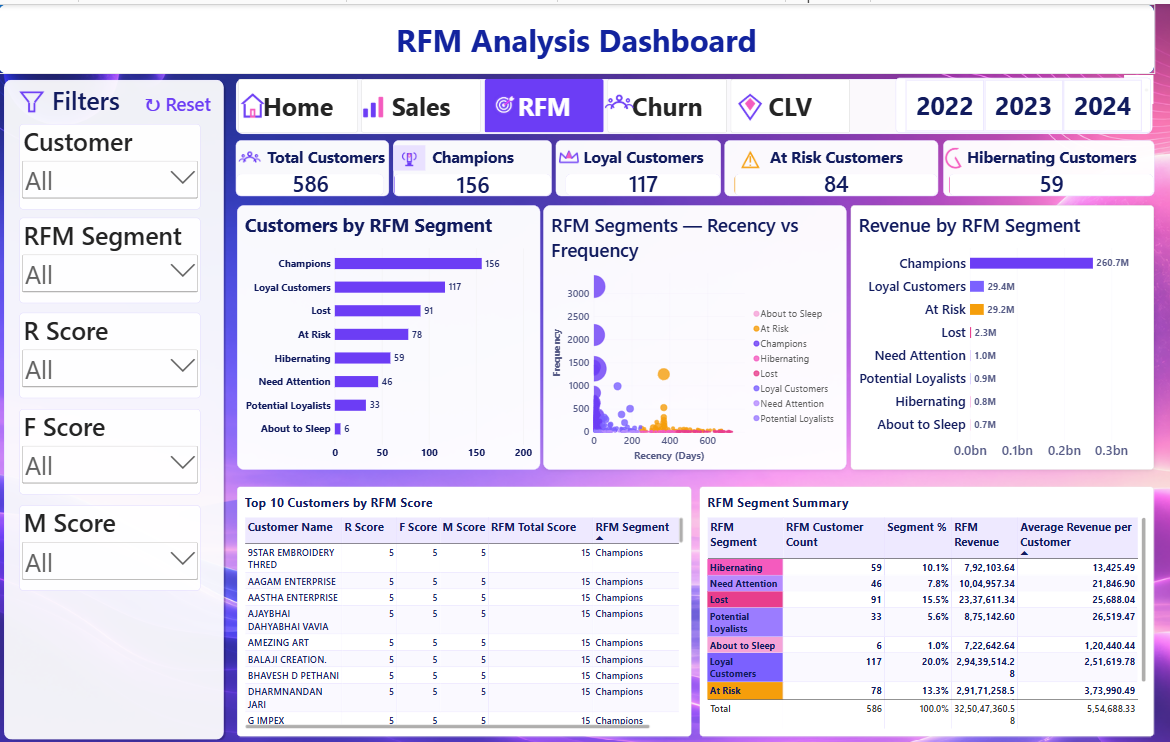

The page's visual inventory and layout, read from the dashboard file:
{"tool":"powerbi","page":{"name":"RFM ","canvas":[2560,1600],"ordinal":2},"visuals":[{"type":"shape","box":[18.8,155.5,485.3,1429],"z":0},{"type":"shape","box":[523.6,159.7,1966.5,118.2],"z":1000},{"type":"image","box":[251.3,20.5,115.4,79.5],"z":2000},{"type":"image","box":[779.5,35.9,80,80],"z":3000},{"type":"image","box":[42.9,168.9,84.5,79.6],"z":4000},{"type":"textbox","box":[128.7,168.9,219.8,91.2],"z":5000},{"type":"actionButton","box":[316.4,179.6,188.2,79.6],"z":6000},{"type":"slicer","fields":{"Values":["Customer_RFM.R Score"]},"box":[58.3,661.1,388,183],"z":7000},{"type":"slicer","fields":{"Values":["Customer_RFM.F Score"]},"box":[58.3,869.4,388,183],"z":8000},{"type":"image","box":[0,20.5,80,80],"z":9000},{"type":"slicer","fields":{"Values":["Customer_RFM.M Score"]},"box":[58.3,1076.4,388,183],"z":10000},{"type":"actionButton","box":[0,0,100,40],"z":11000},{"type":"shape","title":"CLV  Analysis","box":[13.4,0,2479.9,150.1],"z":12000},{"type":"tableEx","title":"RFM Segment Summary","fields":{"Values":["Customer_RFM.RFM Segment","Customer_RFM.RFM Customer Count","Customer_RFM.Segment %","Customer_RFM.RFM Revenue","Customer_RFM.Average Revenue per Customer"]},"box":[1518.2,1034.5,974.5,536.4],"z":13000},{"type":"tableEx","title":"Top 10 Customers by RFM Score","fields":{"Values":["Customer_RFM.Customer Name","Customer_RFM.R Score","Customer_RFM.F Score","Customer_RFM.M Score","Customer_RFM.RFM Total Score","Customer_RFM.RFM Segment"]},"box":[525.5,1034.5,974,536.4],"z":14000},{"type":"clusteredBarChart","title":"Revenue by RFM Segment","fields":{"Category":["Customer_RFM.RFM Segment"],"Y":["Customer_RFM.RFM Revenue"]},"box":[1841.8,430.9,650,567],"z":15000},{"type":"scatterChart","title":"RFM Segments — Recency vs Frequency","fields":{"Y":["Customer_RFM.Frequency"],"X":["Customer_RFM.Recency Days"],"Series":["Customer_RFM.RFM Segment"],"Size":["Sum(Customer_RFM.Monetary)"]},"box":[1181.8,430.9,650,567],"z":16000},{"type":"clusteredBarChart","title":"Customers by RFM Segment","fields":{"Category":["Customer_RFM.RFM Segment"],"Y":["Customer_RFM.RFM Customer Count"]},"box":[525.5,430.9,650,567],"z":17000},{"type":"cardVisual","title":"Total Customers","fields":{"Data":["Customer_RFM.RFM Total Customers"]},"box":[521.8,292,329,120],"z":18000},{"type":"image","box":[521.8,300,60,69.1],"z":19000},{"type":"cardVisual","title":"Champions","fields":{"Data":["Customer_RFM.Champions Customers"]},"box":[860,292,340,120],"z":20000},{"type":"image","box":[860,303.6,69.1,54.5],"z":21000},{"type":"cardVisual","title":"Loyal Customers","fields":{"Data":["Customer_RFM.Loyal Customers"]},"box":[1208,292,354,120],"z":22000},{"type":"image","box":[1207.3,298.2,61.8,65.5],"z":23000},{"type":"cardVisual","title":"At Risk Customers","fields":{"Data":["Customer_RFM.At Risk Customers"]},"box":[1570,292.7,458,120],"z":24000},{"type":"cardVisual","title":"Hibernating Customers","fields":{"Data":["Customer_RFM.Hibernating Customers"]},"box":[2040,292.7,452.7,120],"z":25000},{"type":"image","box":[2018.2,298.2,96.4,69.1],"z":26000},{"type":"image","box":[1585.5,305.5,83.6,58.2],"z":27000},{"type":"slicer","fields":{"Values":["Customer_RFM.Customer Name"]},"box":[58.3,256.9,388,183],"z":28000},{"type":"slicer","fields":{"Values":["Customer_RFM.RFM Segment"]},"box":[58.3,458.3,388,183],"z":29000},{"type":"slicer","fields":{"Values":["Calendar.Date.Variation.Date Hierarchy.Year"]},"box":[1938.3,158,546.9,118],"z":30000},{"type":"pageNavigator","box":[528.2,160,1312,115],"z":31000},{"type":"image","box":[1017.9,159,166.2,115.3],"z":32000},{"type":"image","box":[1569.2,182.1,115.4,79.5],"z":33000},{"type":"image","box":[517.4,179.6,83.1,80.4],"z":34000},{"type":"image","box":[782.1,179.5,80,80],"z":35000},{"type":"image","box":[1305.1,179.5,79.5,79.5],"z":36000}]}

Visuals, with their boxes in screenshot pixels (x1, y1, x2, y2), scaled from the page's 2560x1600 canvas onto the 1170x742 screenshot:
shape: l=9, t=72, r=230, b=735
shape: l=239, t=74, r=1138, b=129
image: l=115, t=10, r=168, b=46
image: l=356, t=17, r=393, b=54
image: l=20, t=78, r=58, b=115
textbox: l=59, t=78, r=159, b=121
actionButton: l=145, t=83, r=231, b=120
slicer - Customer_RFM.R Score: l=27, t=307, r=204, b=391
slicer - Customer_RFM.F Score: l=27, t=403, r=204, b=488
image: l=0, t=10, r=37, b=47
slicer - Customer_RFM.M Score: l=27, t=499, r=204, b=584
actionButton: l=0, t=0, r=46, b=19
"CLV  Analysis" shape: l=6, t=0, r=1140, b=70
"RFM Segment Summary" tableEx: l=694, t=480, r=1139, b=729
"Top 10 Customers by RFM Score" tableEx: l=240, t=480, r=685, b=729
"Revenue by RFM Segment" clusteredBarChart: l=842, t=200, r=1139, b=463
"RFM Segments — Recency vs Frequency" scatterChart: l=540, t=200, r=837, b=463
"Customers by RFM Segment" clusteredBarChart: l=240, t=200, r=537, b=463
"Total Customers" cardVisual: l=238, t=135, r=389, b=191
image: l=238, t=139, r=266, b=171
"Champions" cardVisual: l=393, t=135, r=548, b=191
image: l=393, t=141, r=425, b=166
"Loyal Customers" cardVisual: l=552, t=135, r=714, b=191
image: l=552, t=138, r=580, b=169
"At Risk Customers" cardVisual: l=718, t=136, r=927, b=191
"Hibernating Customers" cardVisual: l=932, t=136, r=1139, b=191
image: l=922, t=138, r=966, b=170
image: l=725, t=142, r=763, b=169
slicer - Customer_RFM.Customer Name: l=27, t=119, r=204, b=204
slicer - Customer_RFM.RFM Segment: l=27, t=213, r=204, b=297
slicer - Calendar.Date.Variation.Date Hierarchy.Year: l=886, t=73, r=1136, b=128
pageNavigator: l=241, t=74, r=841, b=128
image: l=465, t=74, r=541, b=127
image: l=717, t=84, r=770, b=121
image: l=236, t=83, r=274, b=121
image: l=357, t=83, r=394, b=120
image: l=596, t=83, r=633, b=120
